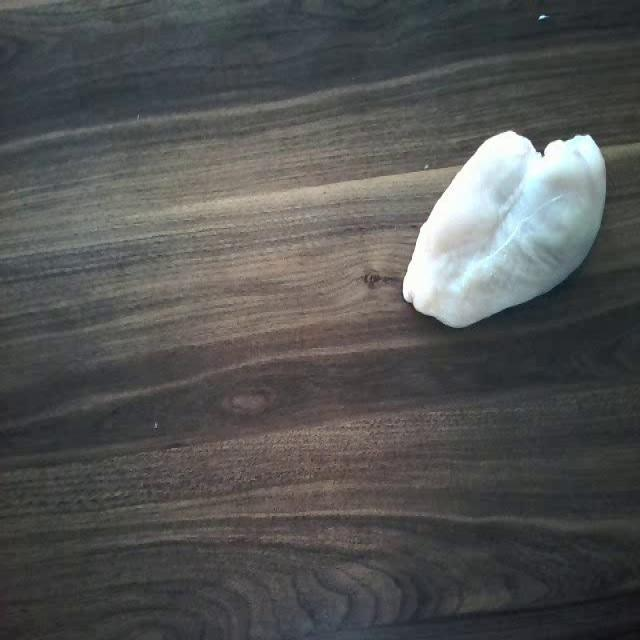breast: (396, 132, 603, 324)
